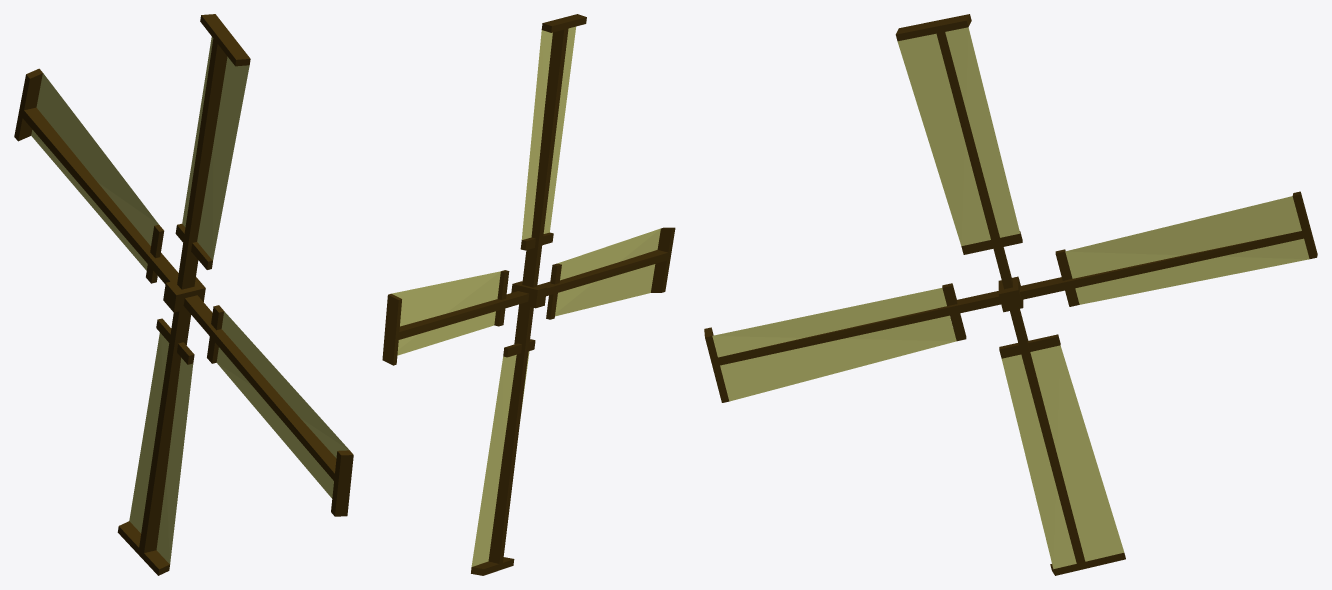
The model's file is town_blades0003.obj.
The picture shows the model from 3 angles, left to right: view 1: azimuth 30°, elevation 25°; view 2: azimuth 150°, elevation 25°; view 3: azimuth 270°, elevation 25°; orthographic projection. The views are drawn at different scales.
Parts seen in each view (by area): view 1: Sails; view 2: Sails; view 3: Sails.
Boxes of the visible parts, x1=… form: Sails: x1=14, y1=14, x2=353, y2=575; Sails: x1=382, y1=14, x2=675, y2=575; Sails: x1=704, y1=14, x2=1317, y2=575.
Bounding box in the file's own units: 0.5135 × 9.86 × 9.85.
